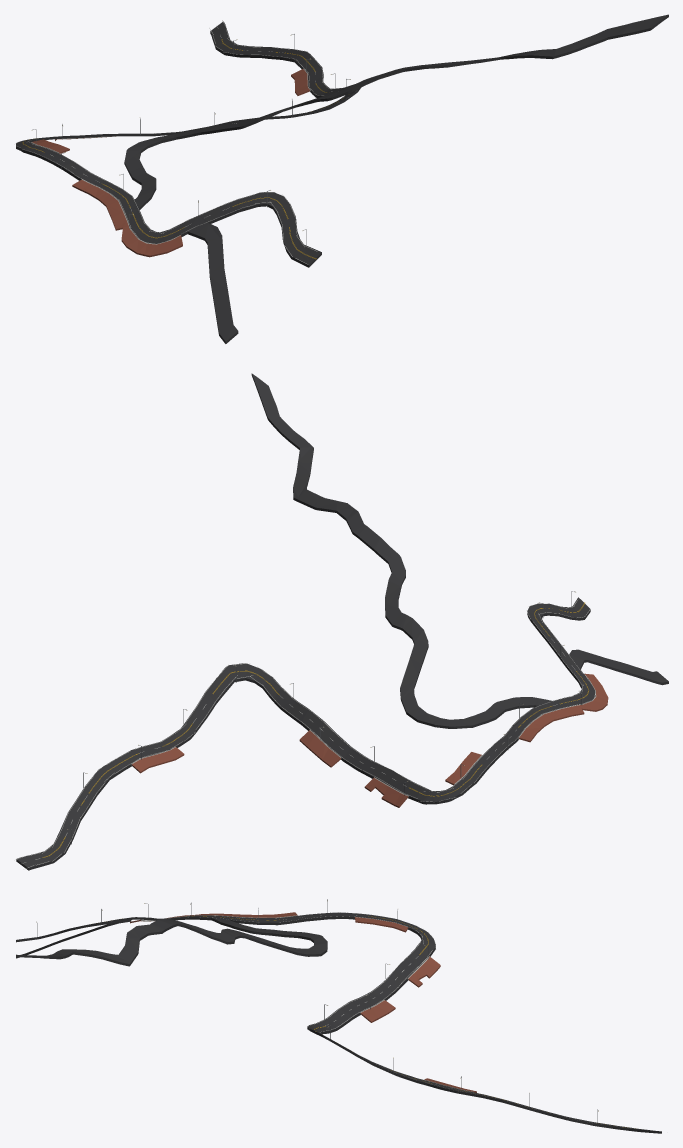
The picture shows the model from 3 angles, top to bottom: view 1: azimuth 30°, elevation 25°; view 2: azimuth 150°, elevation 25°; view 3: azimuth 270°, elevation 25°; orthographic projection. The views are drawn at different scales.
Bounding box in the file's own units: 221 × 115 × 295.
